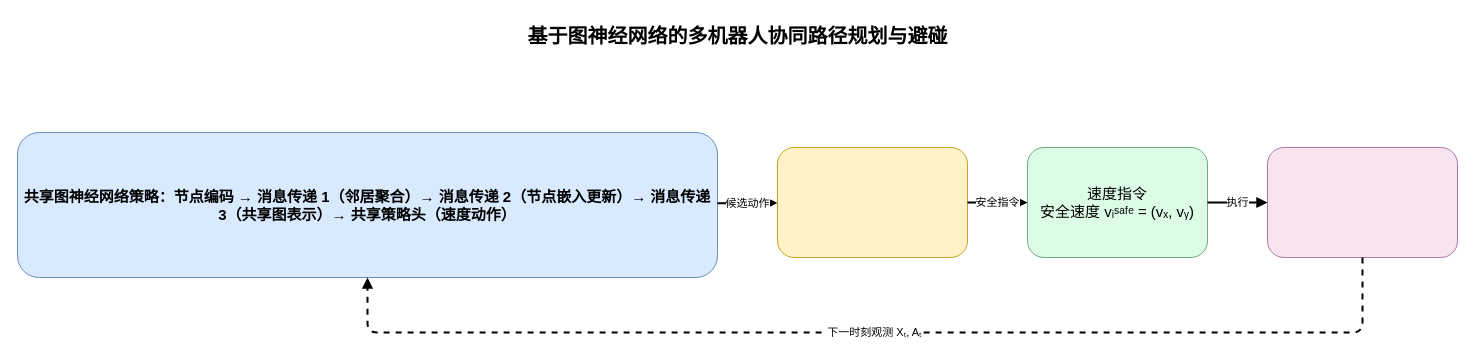
The diagram is 1475 pixels wide and 358 high, and some of its shapes have lost their labels. Here are the shapes that lost their labels. From the top down, the box of each, then its label:
(776, 146, 968, 258): 安全过滤器 碰撞检查 速度裁剪 ORCA 风格修正
(1266, 146, 1458, 258): 多机器人环境 物理步进、障碍物、目标与奖励
